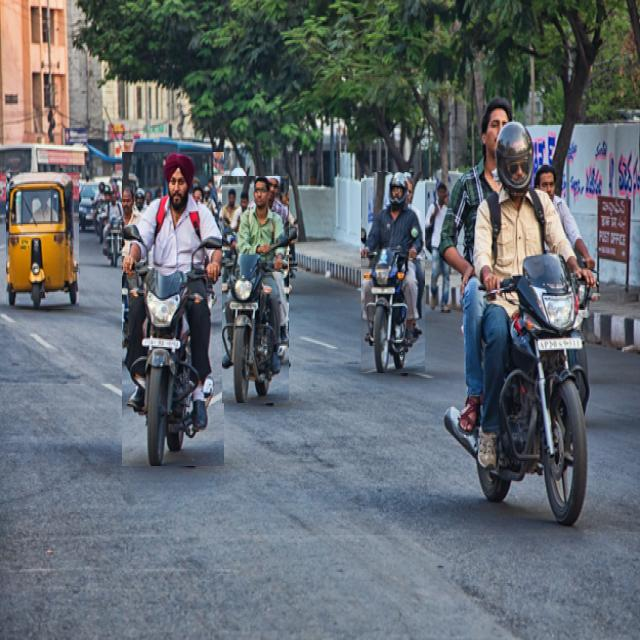autorickshaw: (6, 173, 79, 309)
motorcycle: (441, 98, 595, 524), (122, 153, 224, 466), (222, 177, 289, 403), (361, 173, 425, 373), (99, 190, 128, 267)
